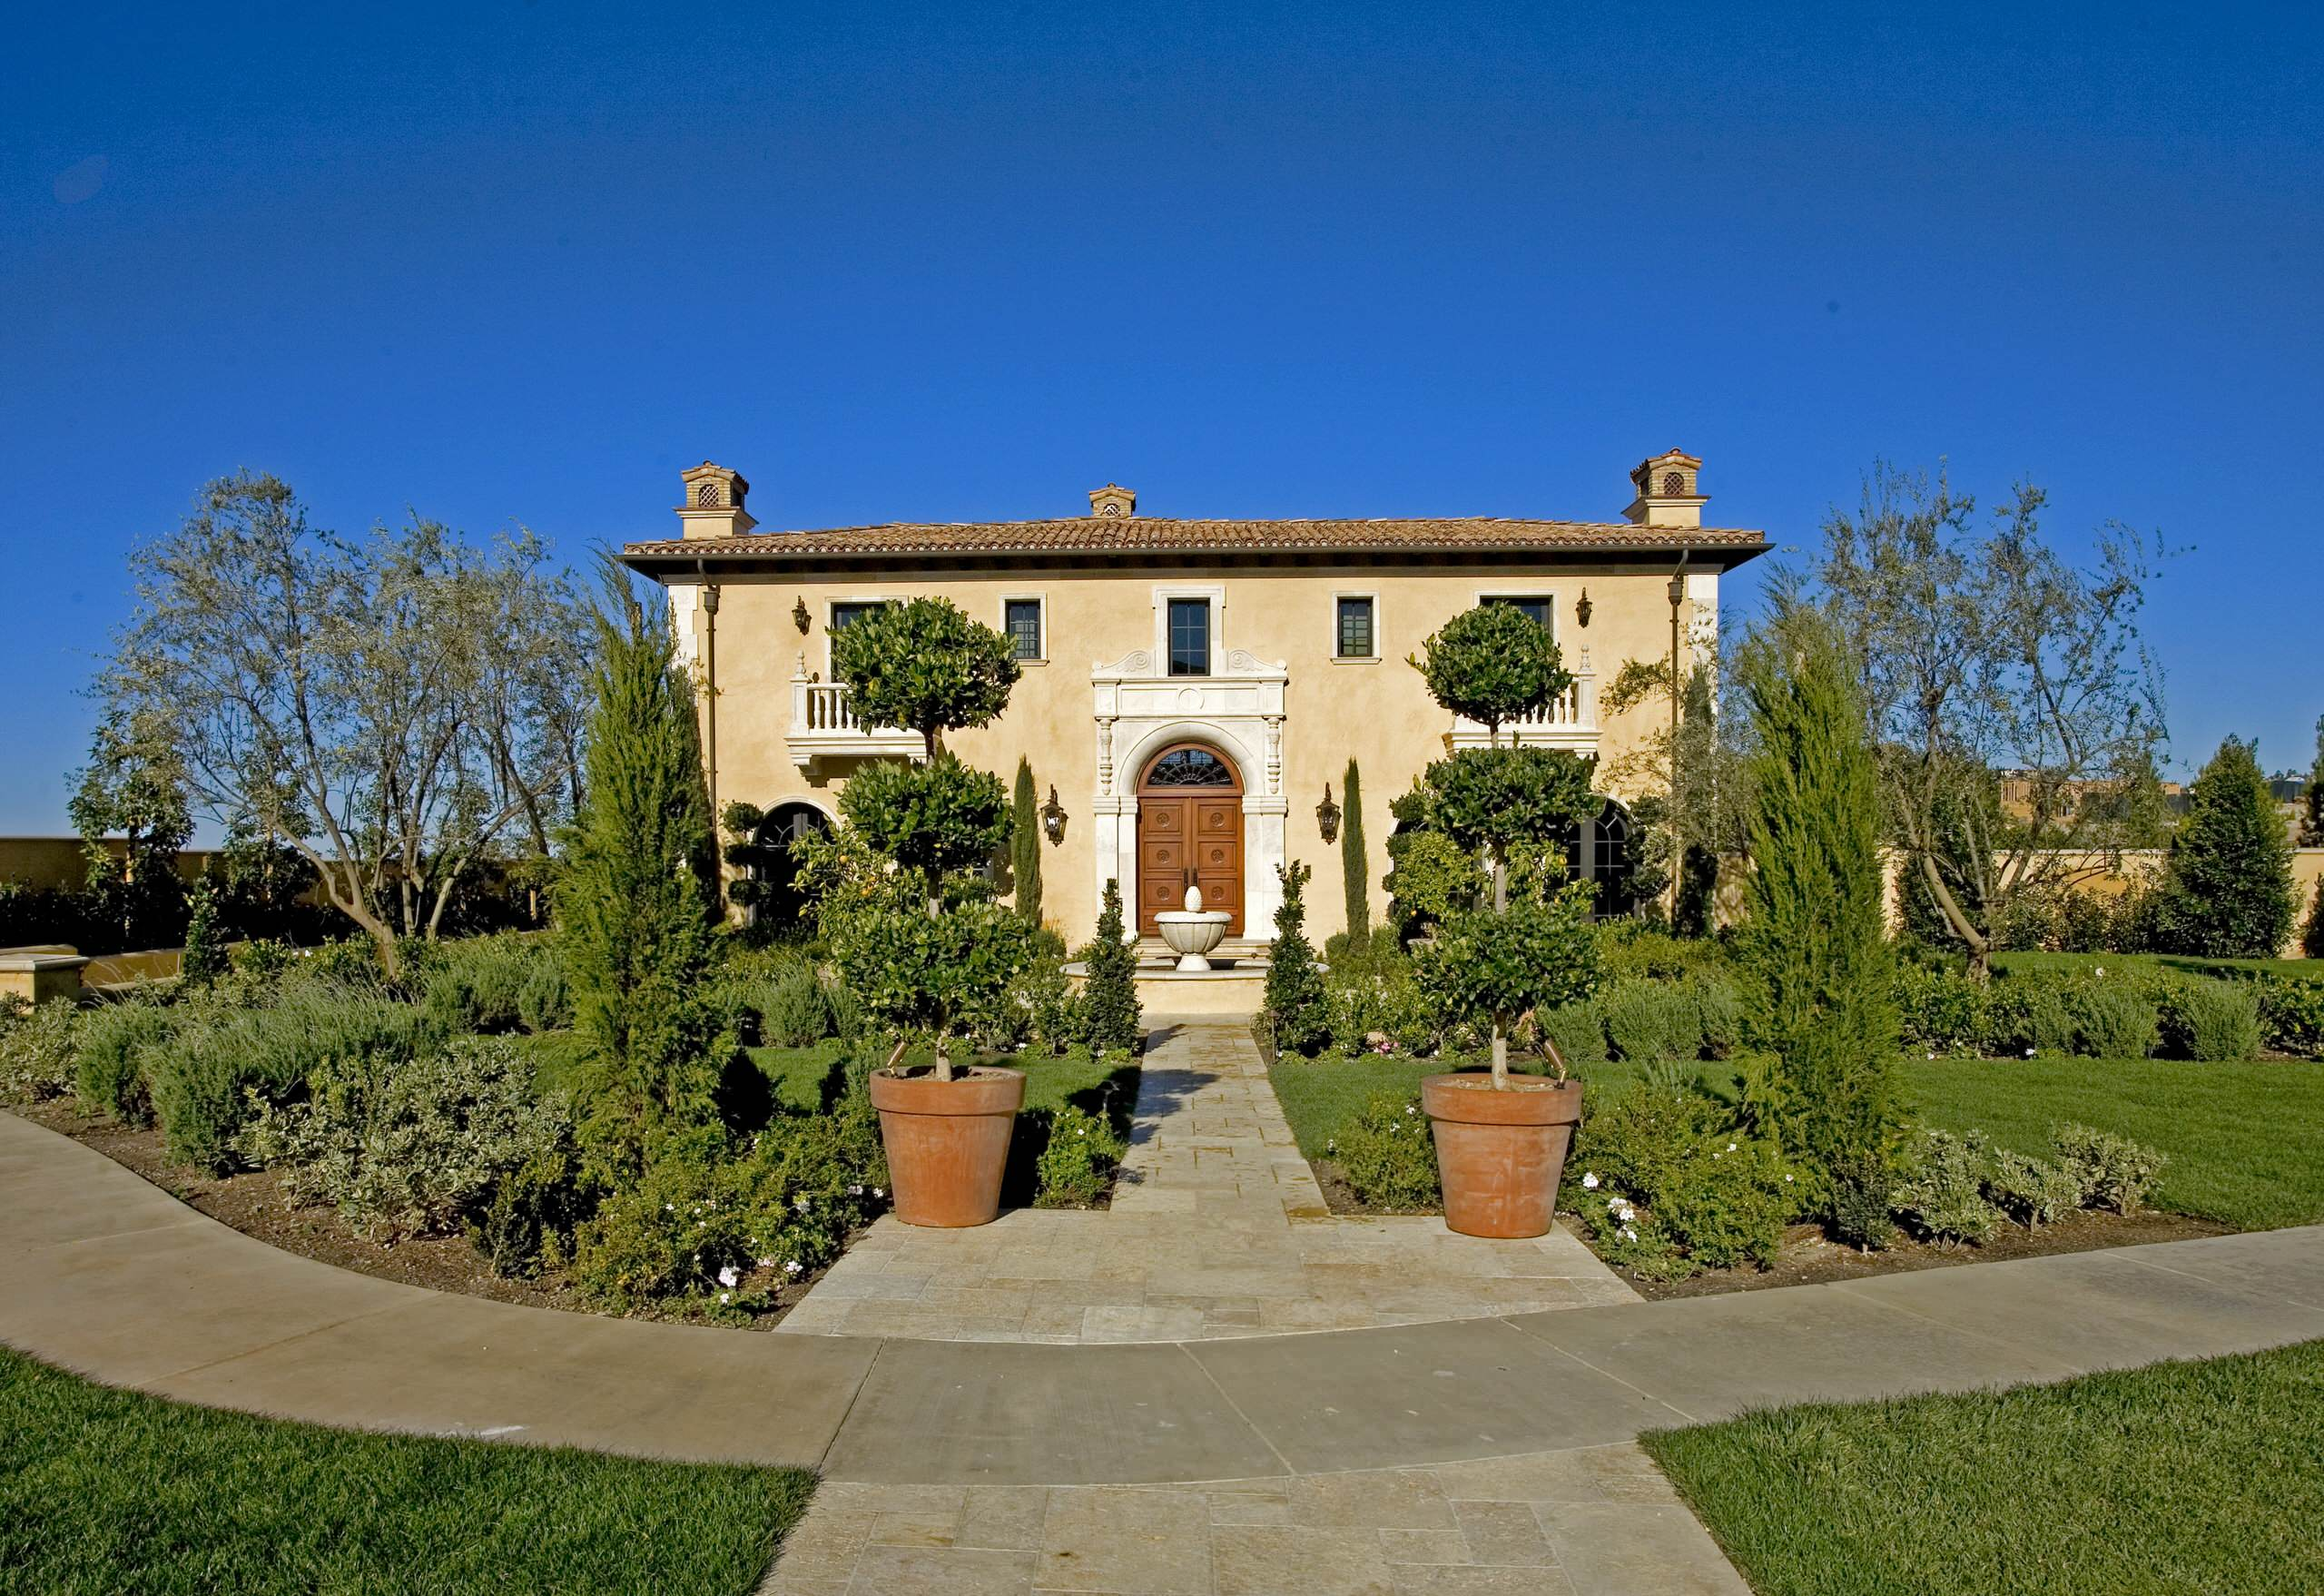tree: (65, 470, 618, 971), (1766, 486, 2169, 960), (796, 595, 1063, 1065), (1397, 597, 1618, 1086)
